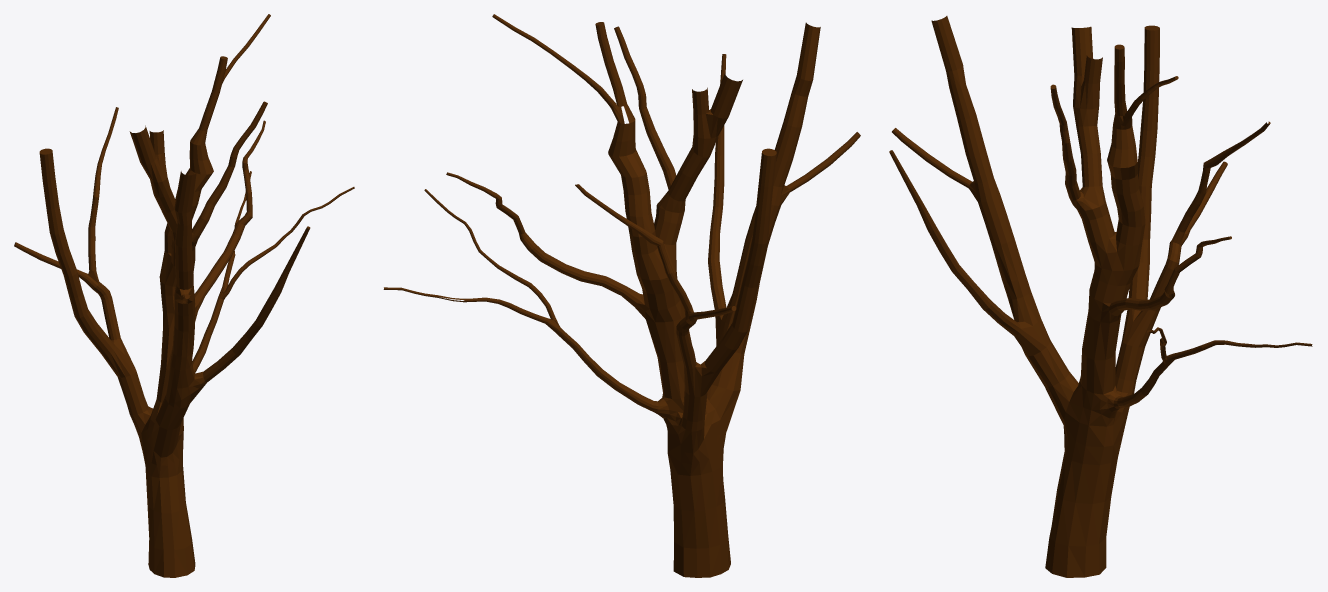
The model's file is 15_decorativeZ.glb.
3 renders of one model, left to right at view 1: azimuth 30°, elevation 25°; view 2: azimuth 150°, elevation 25°; view 3: azimuth 270°, elevation 25°, orthographic. The views are drawn at different scales.
Bounding box in the file's own units: 3.45 × 5.13 × 3.46.
